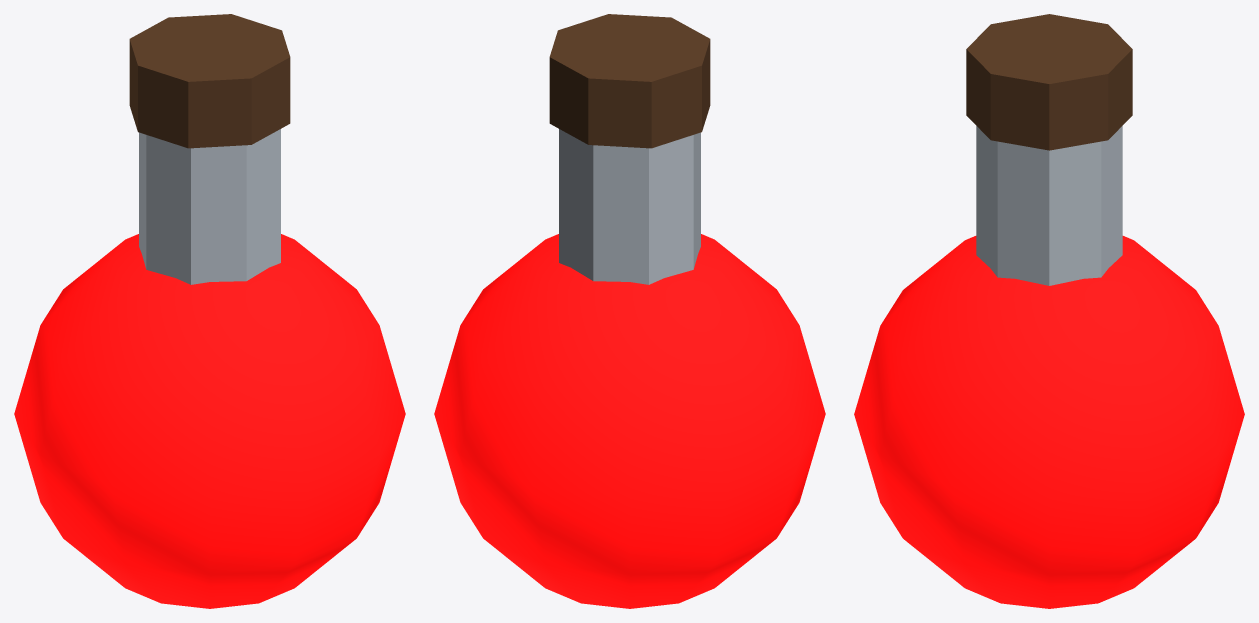
Rendered from item_potion_red.glb.
3 renders of one model, left to right at view 1: azimuth 30°, elevation 25°; view 2: azimuth 150°, elevation 25°; view 3: azimuth 270°, elevation 25°, orthographic.
Parts seen in each view (by area): view 1: potion_red; view 2: potion_red; view 3: potion_red.
Part boxes in pixels (x1,y1,x2,y2): potion_red: (14,14,405,608); potion_red: (434,14,825,608); potion_red: (854,14,1244,608).
Size of the model in its own units: 0.16 by 0.245 by 0.16.
